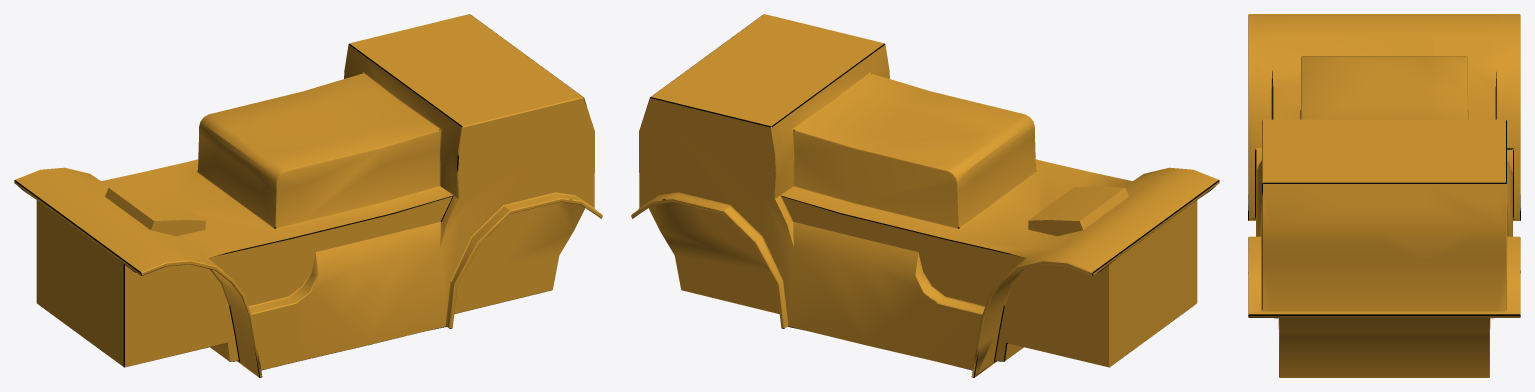
File: forklift-chassis-unit-authored-atlas.glb
The picture shows the model from 3 angles, left to right: view 1: azimuth 30°, elevation 25°; view 2: azimuth 150°, elevation 25°; view 3: azimuth 270°, elevation 25°; orthographic projection. The views are drawn at different scales.
Visible parts, largest first — view 1: Authored surface; view 2: Authored surface; view 3: Authored surface.
Part boxes in pixels (x1,y1,x2,y2): Authored surface: (14,14,602,377); Authored surface: (631,14,1219,377); Authored surface: (1248,14,1520,377).
Bounding box in the file's own units: 2 × 0.8084 × 0.9537.
1 material, 1 textured.
